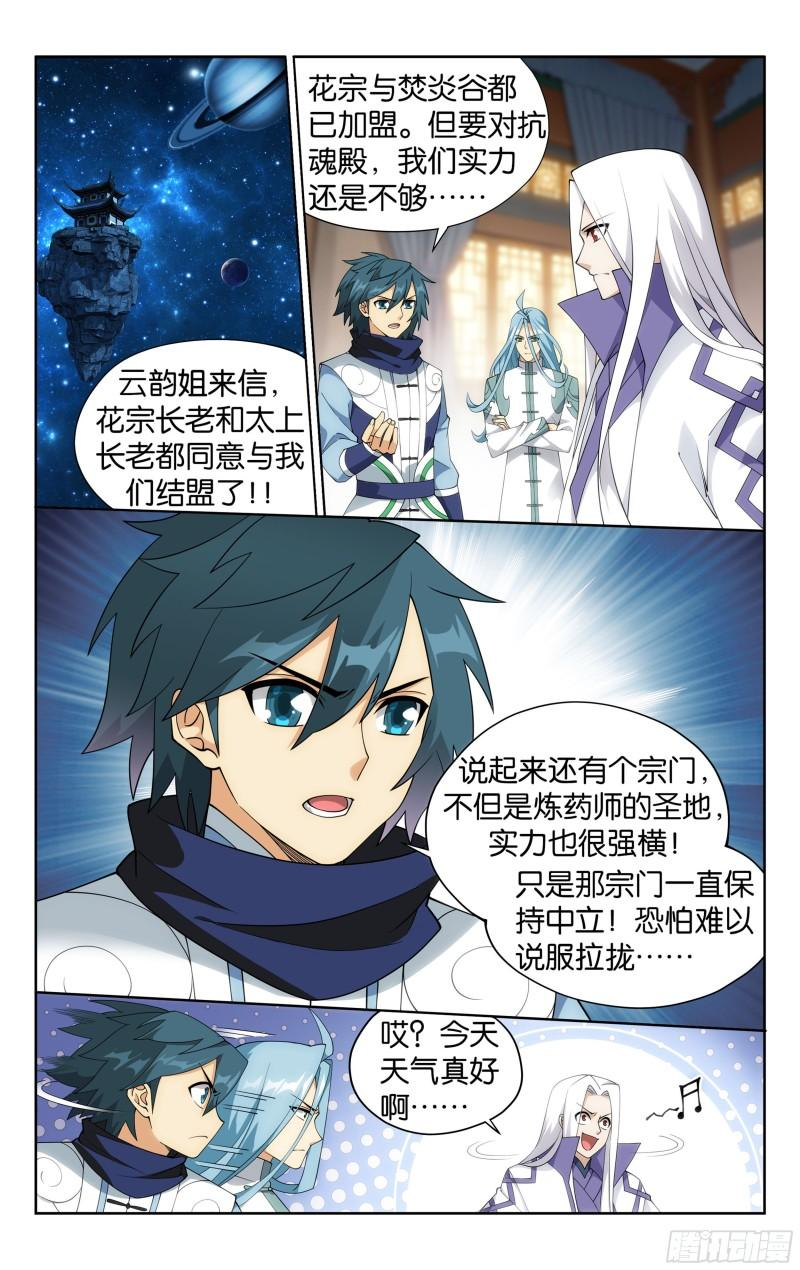boxEllipse: (405, 697, 726, 859), (291, 56, 553, 249), (72, 338, 312, 511), (480, 857, 760, 1003), (345, 1006, 525, 1135)
minBox: (32, 506, 764, 1031), (288, 56, 765, 532), (30, 991, 765, 1216), (33, 56, 315, 514)
